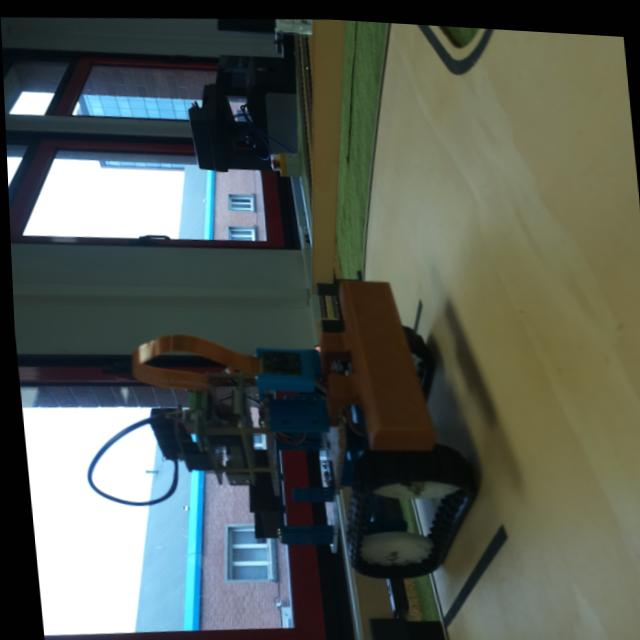obstacle_voiture: (141, 252, 489, 599)
